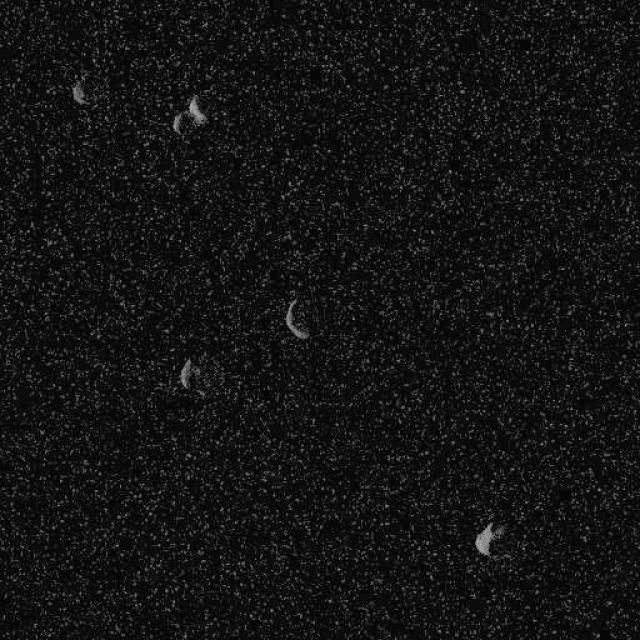D2: (172, 94, 208, 135), (284, 296, 311, 340), (472, 520, 503, 558), (70, 77, 90, 105), (178, 356, 194, 389)
